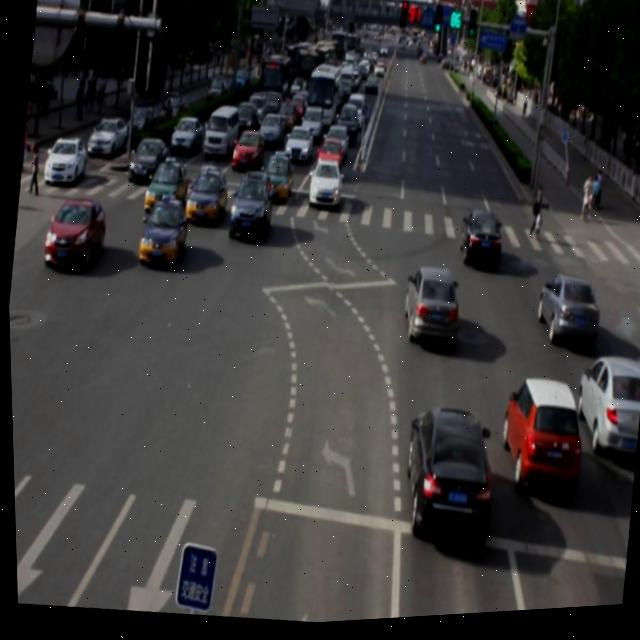car: (393, 403, 497, 547), (490, 376, 585, 504), (567, 357, 640, 464), (530, 275, 600, 357), (397, 267, 461, 351), (134, 193, 186, 270), (224, 167, 274, 246), (139, 154, 189, 220), (180, 167, 230, 231), (456, 211, 503, 274)
